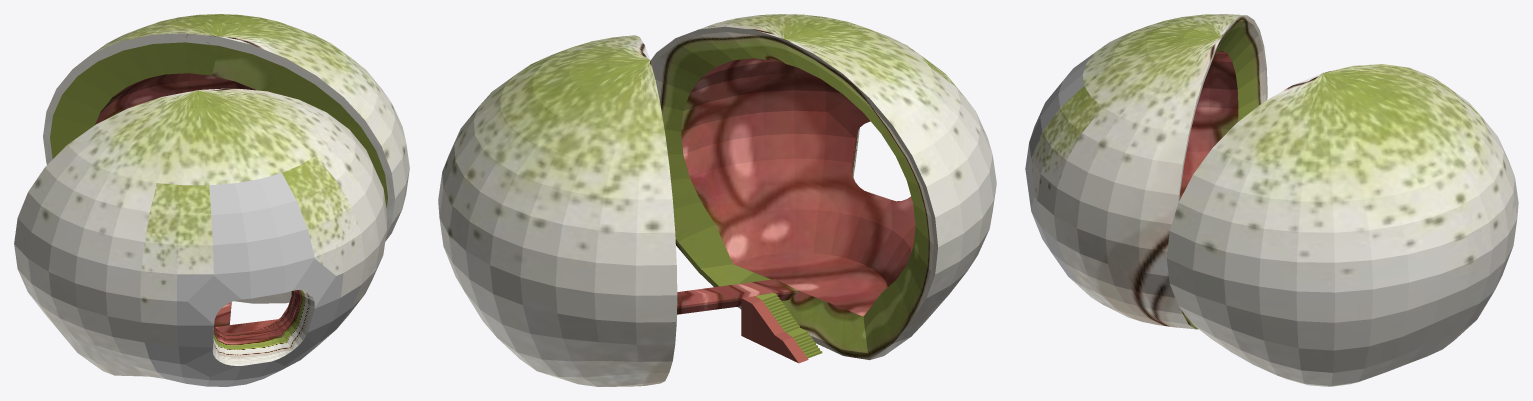
The model's file is 抹茶紅豆山.fbx.
The picture shows the model from 3 angles, left to right: view 1: azimuth 30°, elevation 25°; view 2: azimuth 150°, elevation 25°; view 3: azimuth 270°, elevation 25°; orthographic projection. The views are drawn at different scales.
Parts seen in each view (by area): view 1: Sphere.004; view 2: Sphere.004, Sphere.003, Plane.002, Plane.018; view 3: Sphere.004.
Part boxes in pixels (box(x1,y1,x2,y2)): Sphere.004: box(14, 14, 409, 386); Sphere.004: box(438, 14, 996, 386); Sphere.003: box(677, 279, 797, 314); Plane.002: box(741, 296, 808, 363); Plane.018: box(755, 292, 822, 358); Sphere.004: box(1025, 14, 1518, 386).
Bounding box in the file's own units: 5224 × 5045 × 3209.
